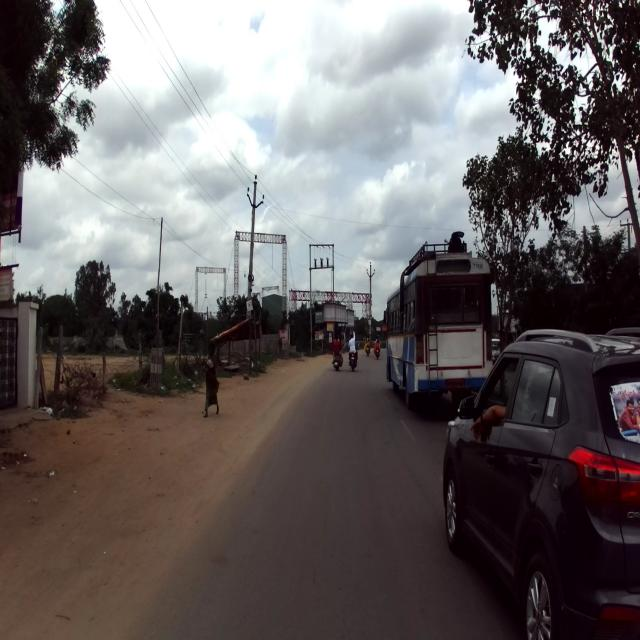Car_Hyundai: (441, 328, 639, 638)
bus: (382, 230, 493, 409)
